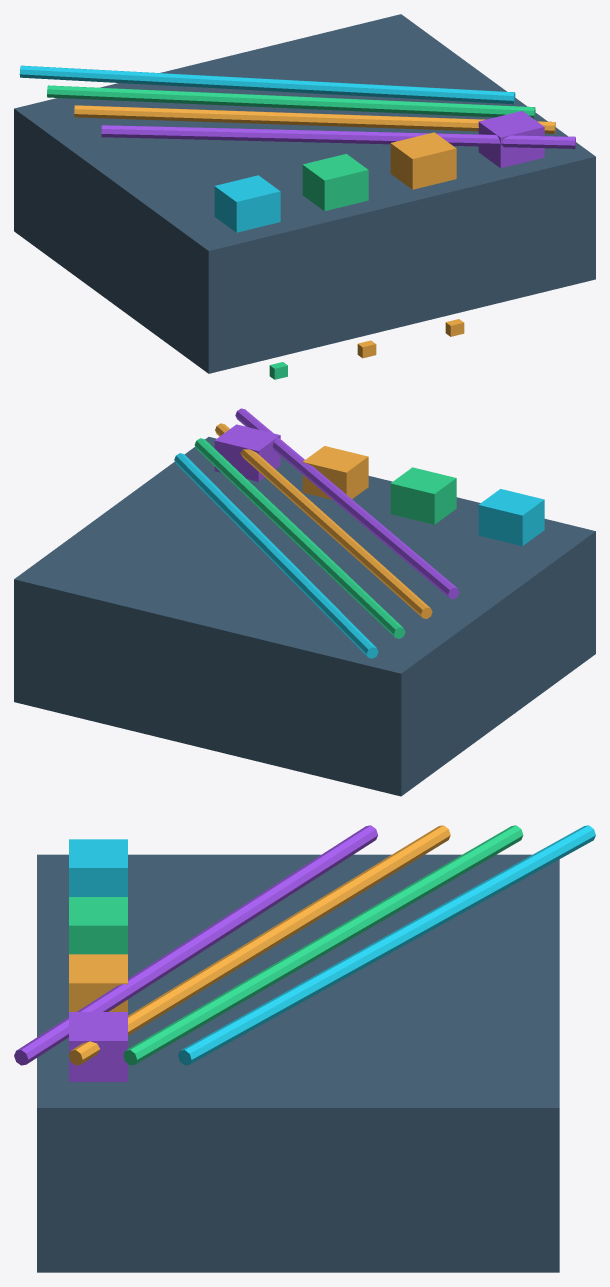
Rendered from 15_L80_CalibratedOpticalTapSplitter.fbx.
3 renders of one model, top to bottom at view 1: azimuth 30°, elevation 25°; view 2: azimuth 150°, elevation 25°; view 3: azimuth 270°, elevation 25°, orthographic. The views are drawn at different scales.
Visible parts, largest first — view 1: CalibratedOpticalTapSplitter; view 2: CalibratedOpticalTapSplitter; view 3: CalibratedOpticalTapSplitter.
Boxes of the visible parts, bbox=[...] form: CalibratedOpticalTapSplitter: bbox=[14, 14, 595, 379]; CalibratedOpticalTapSplitter: bbox=[14, 408, 595, 796]; CalibratedOpticalTapSplitter: bbox=[14, 825, 595, 1272].
Size of the model in its own units: 132 by 65.8 by 128.
